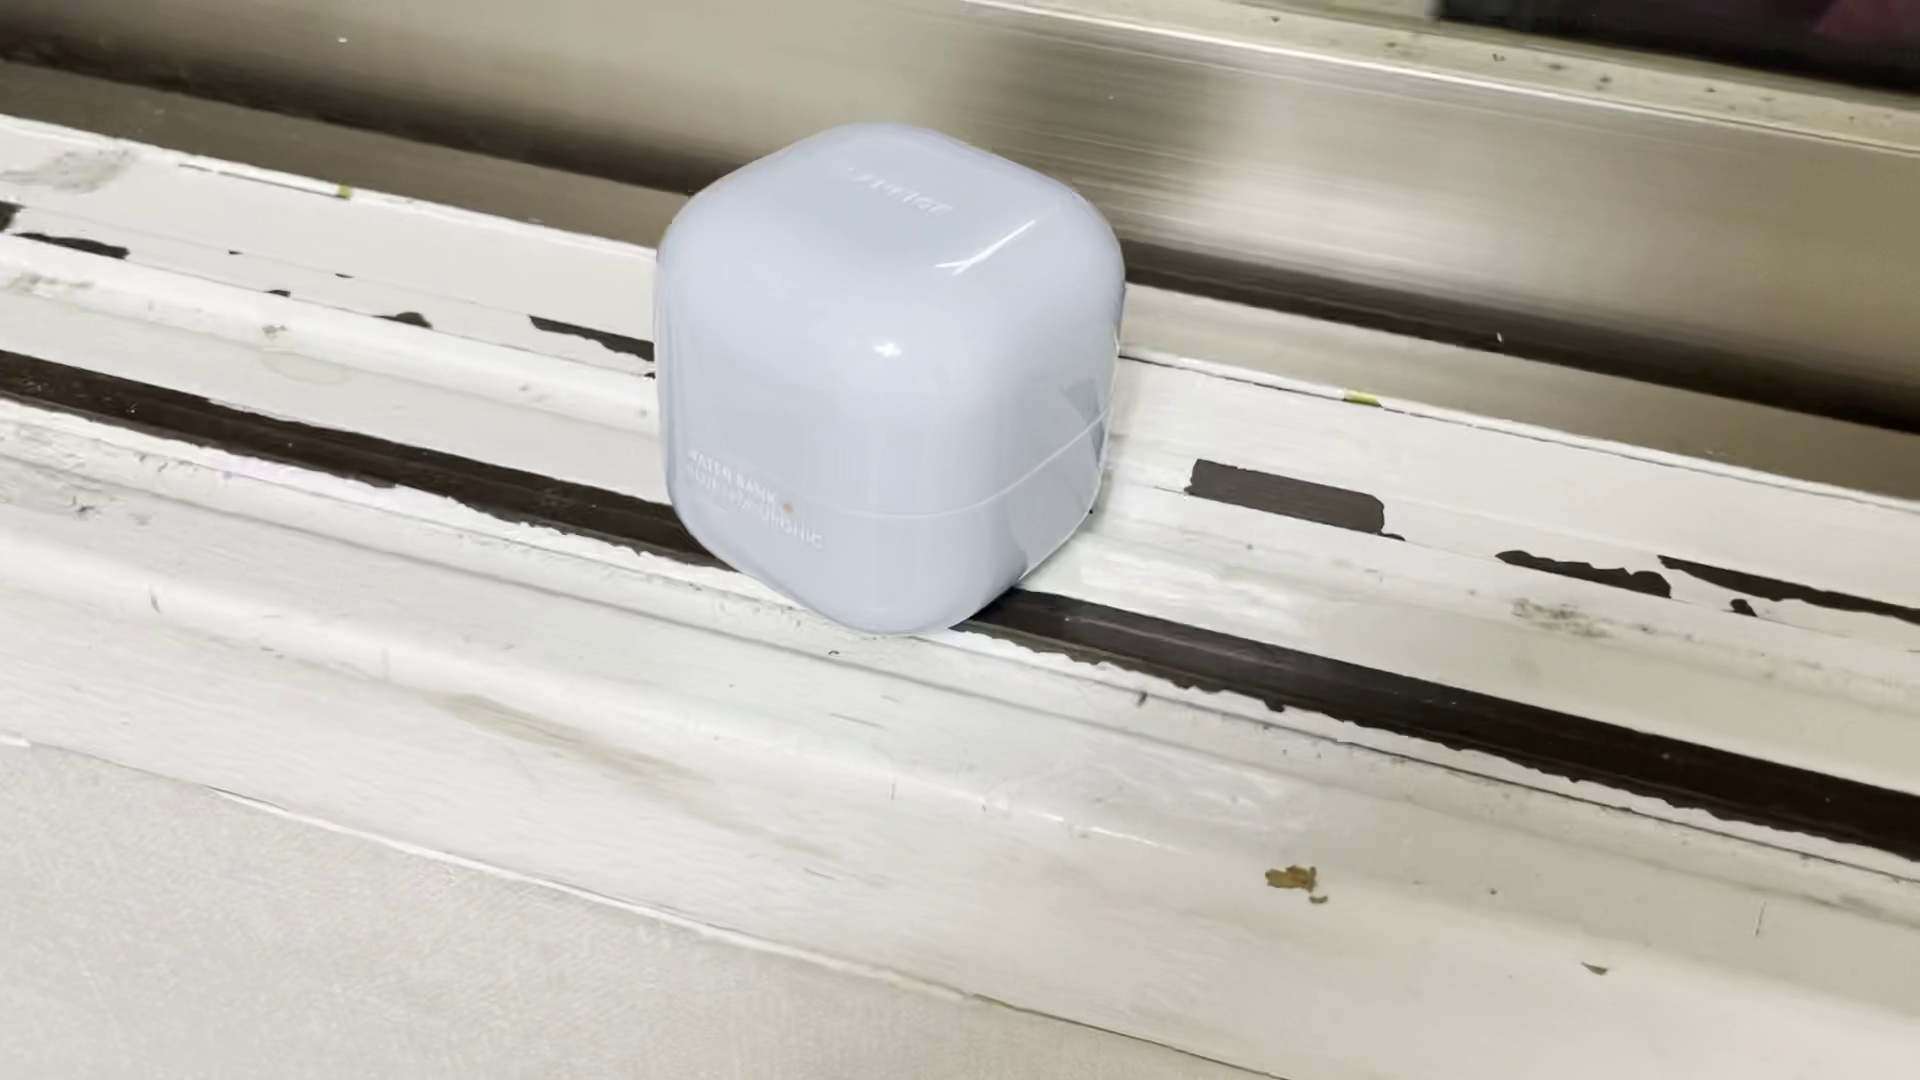cream: (657, 121, 1130, 629)
